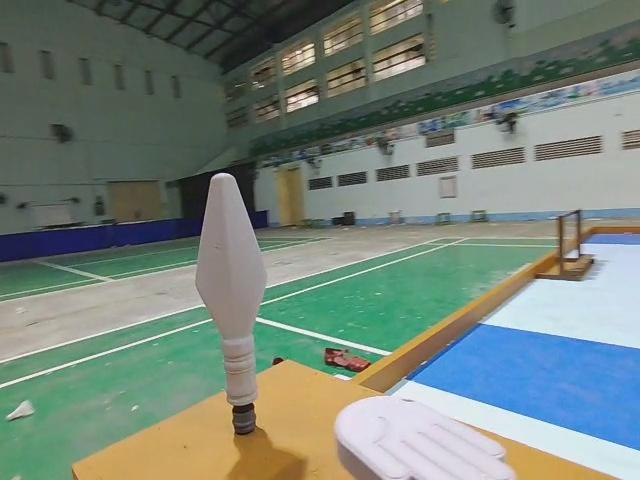Hand: (331, 392, 517, 480)
Sph: (195, 169, 271, 436)
